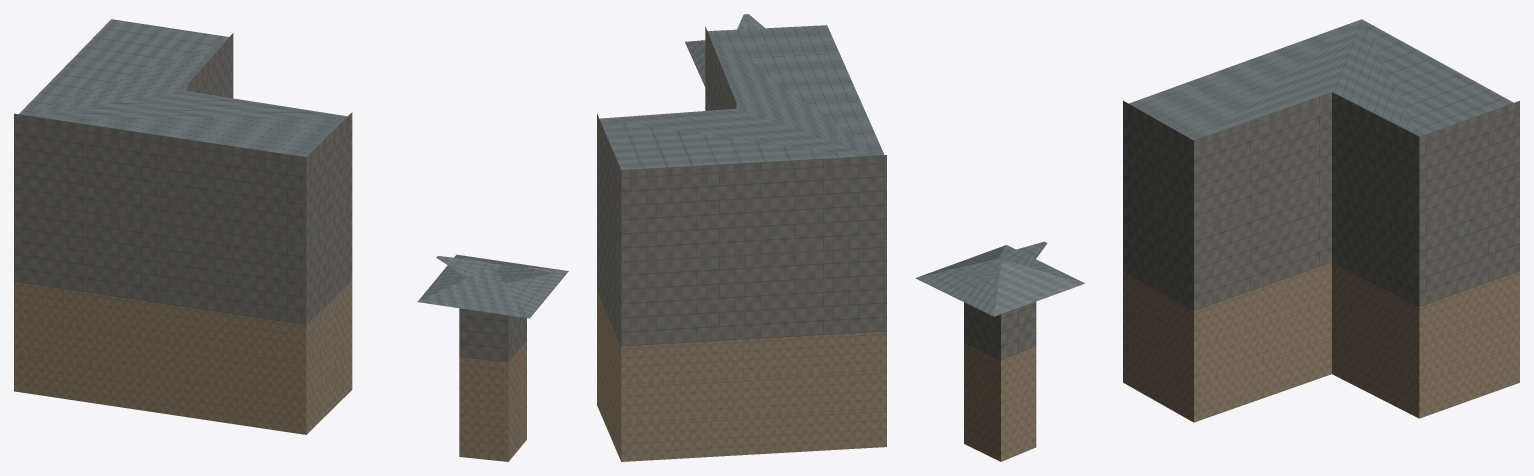
The model's file is bld_c22_30_387.gltf.
The picture shows the model from 3 angles, left to right: view 1: azimuth 30°, elevation 25°; view 2: azimuth 150°, elevation 25°; view 3: azimuth 270°, elevation 25°; orthographic projection. The views are drawn at different scales.
Parts seen in each view (by area): view 1: bld_c22_30_387; view 2: bld_c22_30_387; view 3: bld_c22_30_387.
Part boxes in pixels (<box>): bld_c22_30_387: <box>14,19,568,461</box>; bld_c22_30_387: <box>597,14,886,461</box>; bld_c22_30_387: <box>915,19,1519,461</box>.
Size of the model in its own units: 18.13 by 12.88 by 25.03.
4 materials, 4 textured.
